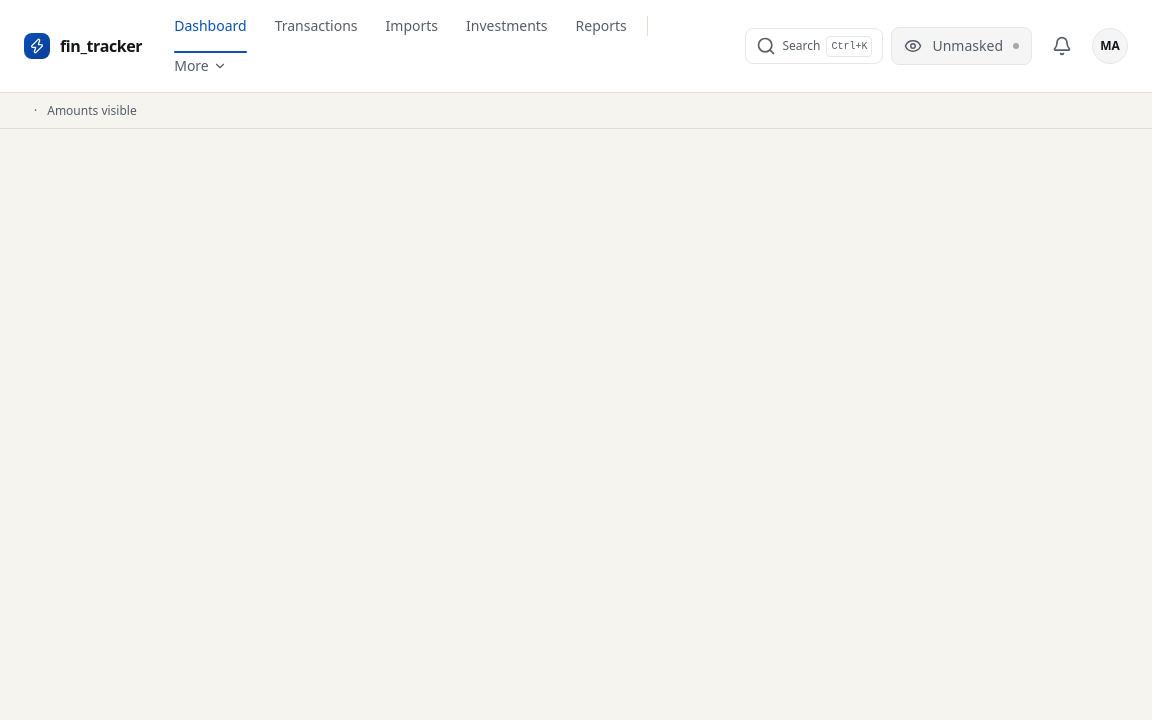
Scenario: the mask contract on the SEEDED money surfaces of a restored session › prints the same balance for an ordinary restored session
This screenshot has width=1152, height=720.
M185: the account balances live in the More panel now (rail retired).
Click the button with test id "more-toggle". click: (200, 66)
box: [162, 48, 239, 84]
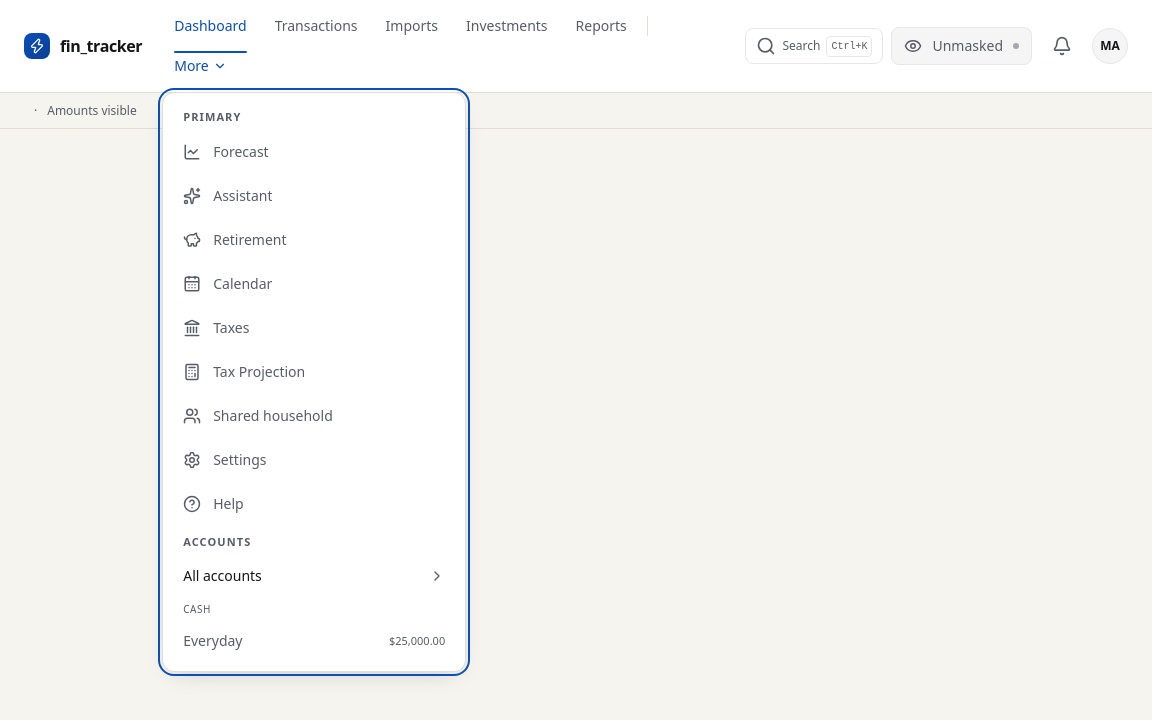
Expected: the element with test id "more-panel" is shown, [162, 92, 466, 672]
Expected: the text "$25,000.00" is shown, [389, 631, 445, 651]
